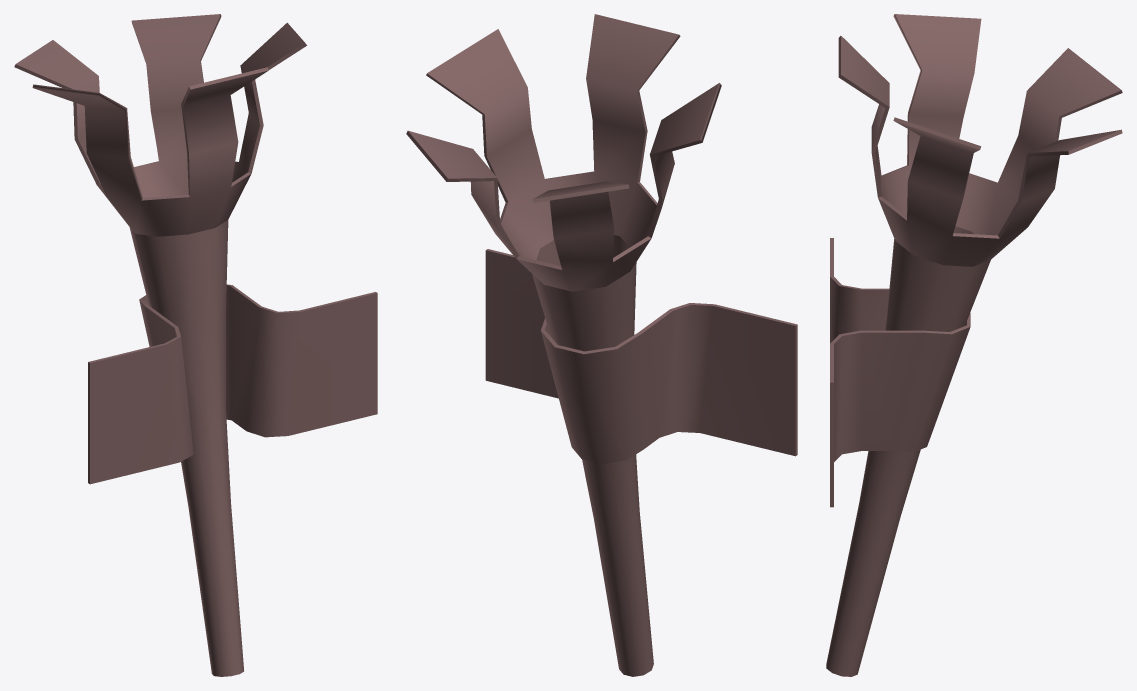
File: WallTorch.fbx
3 renders of one model, left to right at view 1: azimuth 30°, elevation 25°; view 2: azimuth 150°, elevation 25°; view 3: azimuth 270°, elevation 25°, orthographic. The views are drawn at different scales.
Parts seen in each view (by area): view 1: WallTorch, WallTorchPlate; view 2: WallTorch, WallTorchPlate; view 3: WallTorch, WallTorchPlate.
Boxes of the visible parts, x1,y1,x2,y2 form: WallTorch: (14, 14, 306, 676); WallTorchPlate: (88, 284, 377, 484); WallTorch: (406, 14, 721, 676); WallTorchPlate: (485, 249, 797, 463); WallTorch: (826, 14, 1122, 676); WallTorchPlate: (830, 238, 970, 507).
Size of the model in its own units: 0.8997 by 1.79 by 0.7786.
